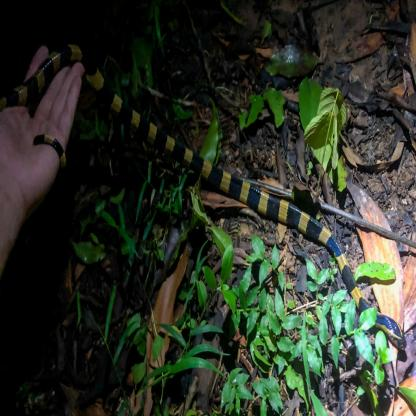Snake: (42, 46, 408, 350)
